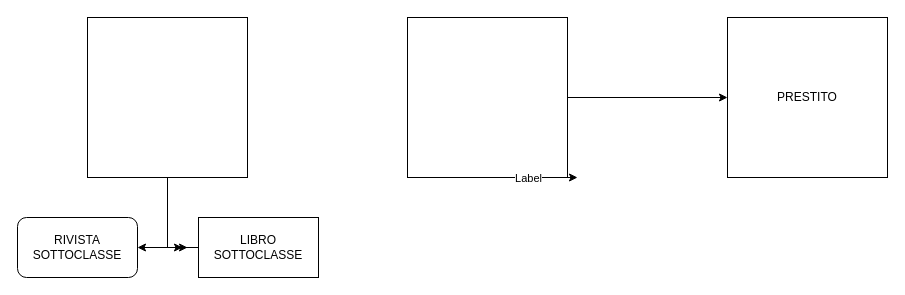
The diagram is 905 pixels wide and 295 high, and some of its shapes have lost their labels. The centre of each missing label's shape, as x and y in pixels:
"ELEMENTOCATALOGO CLASSE ASTRATTA" belongs at point (167, 97).
"UTENTE" belongs at point (487, 97).
